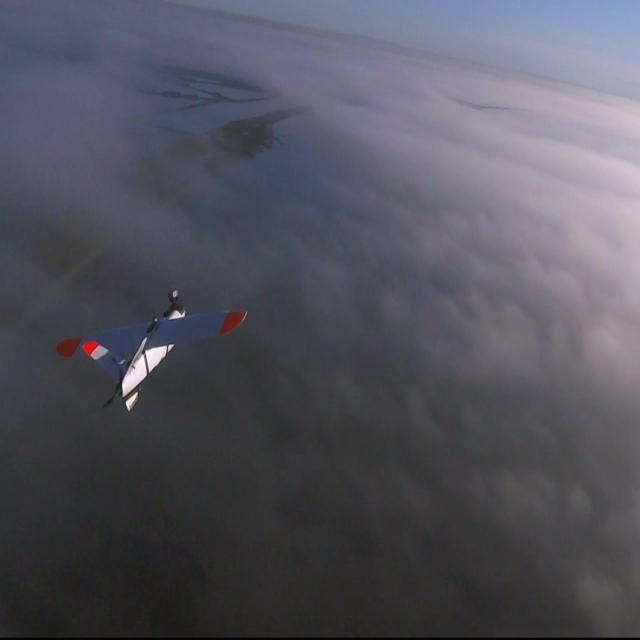iha: (53, 285, 251, 417)
